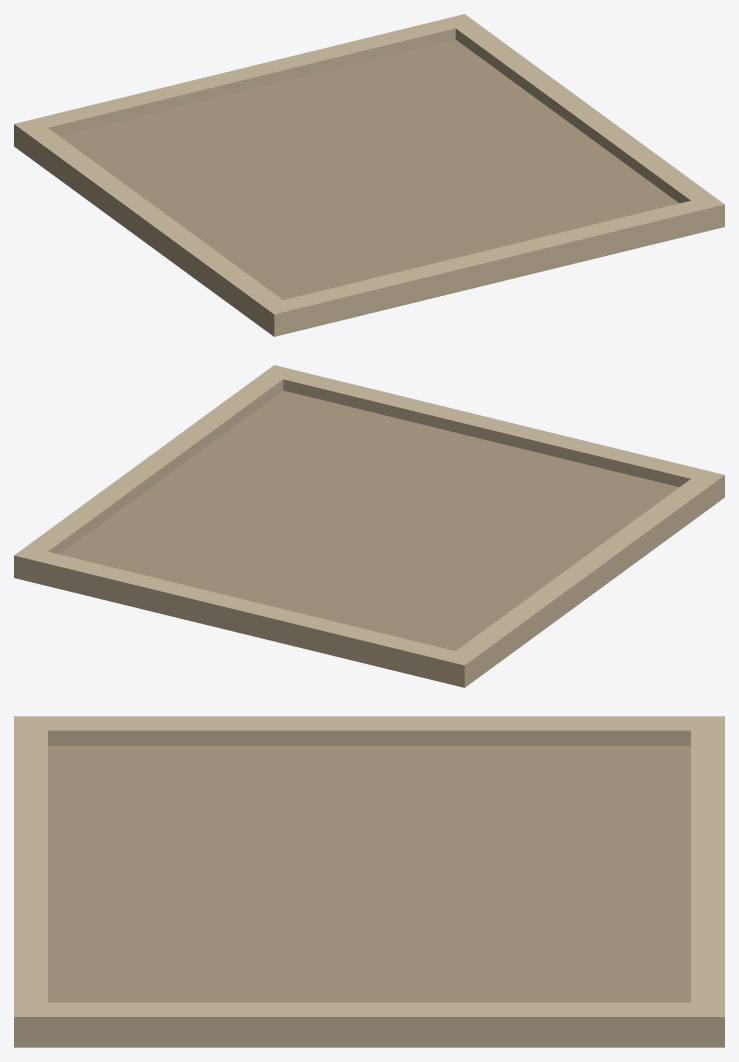
The model's file is prop-sieve-patch-square.fbx.
The picture shows the model from 3 angles, top to bottom: view 1: azimuth 30°, elevation 25°; view 2: azimuth 150°, elevation 25°; view 3: azimuth 270°, elevation 25°; orthographic projection. The views are drawn at different scales.
Parts seen in each view (by area): view 1: prop-sieve-patch-square; view 2: prop-sieve-patch-square; view 3: prop-sieve-patch-square.
Part boxes in pixels (box(x1,y1,x2,y2)): prop-sieve-patch-square: box(14, 14, 724, 336); prop-sieve-patch-square: box(14, 365, 724, 687); prop-sieve-patch-square: box(14, 716, 724, 1047).
Size of the model in its own units: 12.6 by 0.6 by 12.6.
